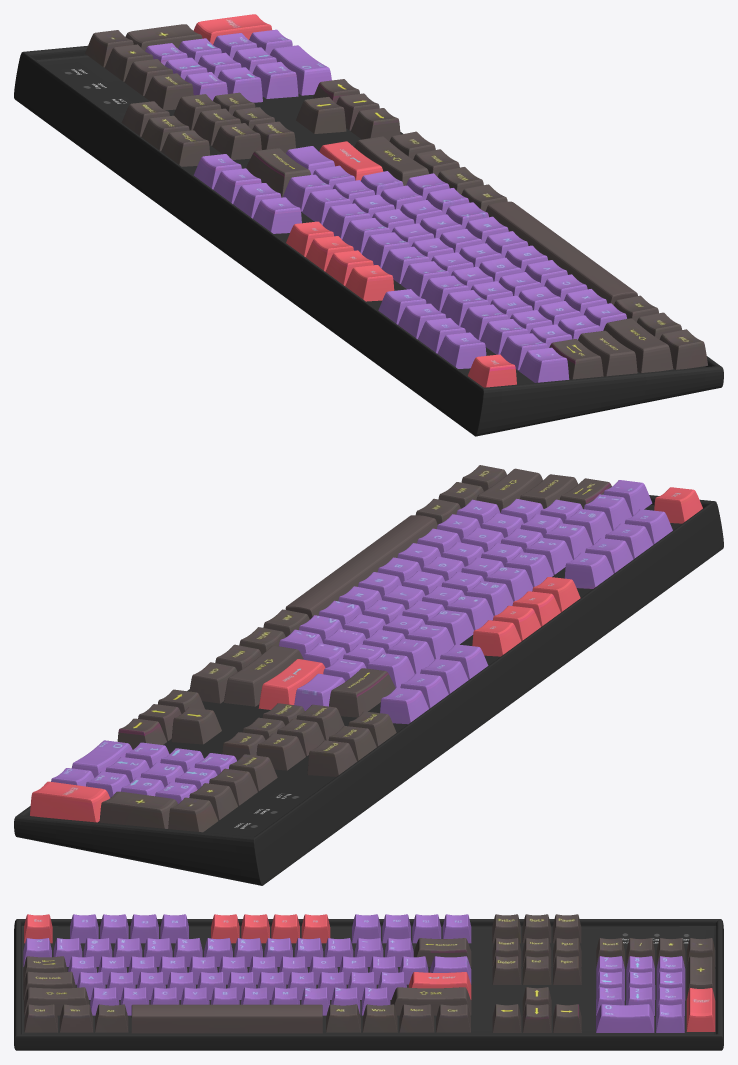
File: full_size_keyboard_purple_black_red-transformed.glb
3 views of the same model, one above another, from view 1: azimuth 30°, elevation 25°; view 2: azimuth 150°, elevation 25°; view 3: azimuth 270°, elevation 25° (orthographic). The views are drawn at different scales.
Visible parts, largest first — view 1: Keyboard Body; view 2: Keyboard Body; view 3: Keyboard Body.
Boxes of the visible parts, bbox=[...] form: Keyboard Body: bbox=[14, 14, 723, 436]; Keyboard Body: bbox=[14, 465, 723, 885]; Keyboard Body: bbox=[14, 914, 723, 1050].
Bounding box in the file's own units: 5.55 × 1.5 × 18.04.
1 material, 1 textured.
